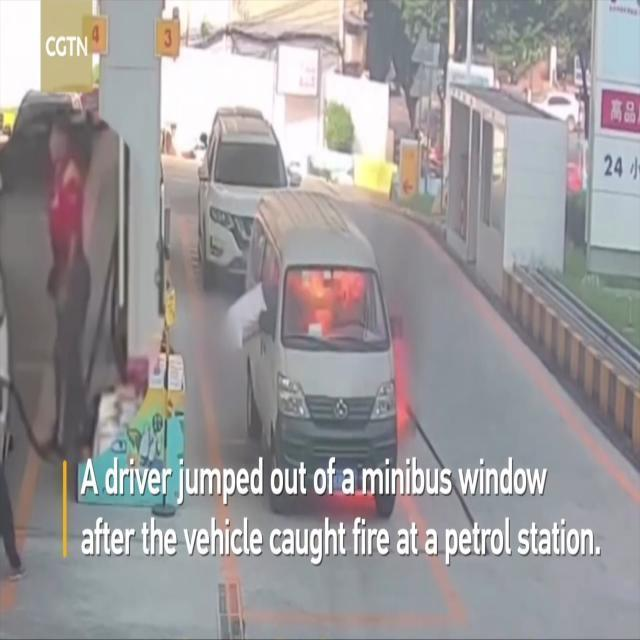fire: (286, 268, 376, 340), (392, 342, 416, 446), (314, 484, 384, 514)
